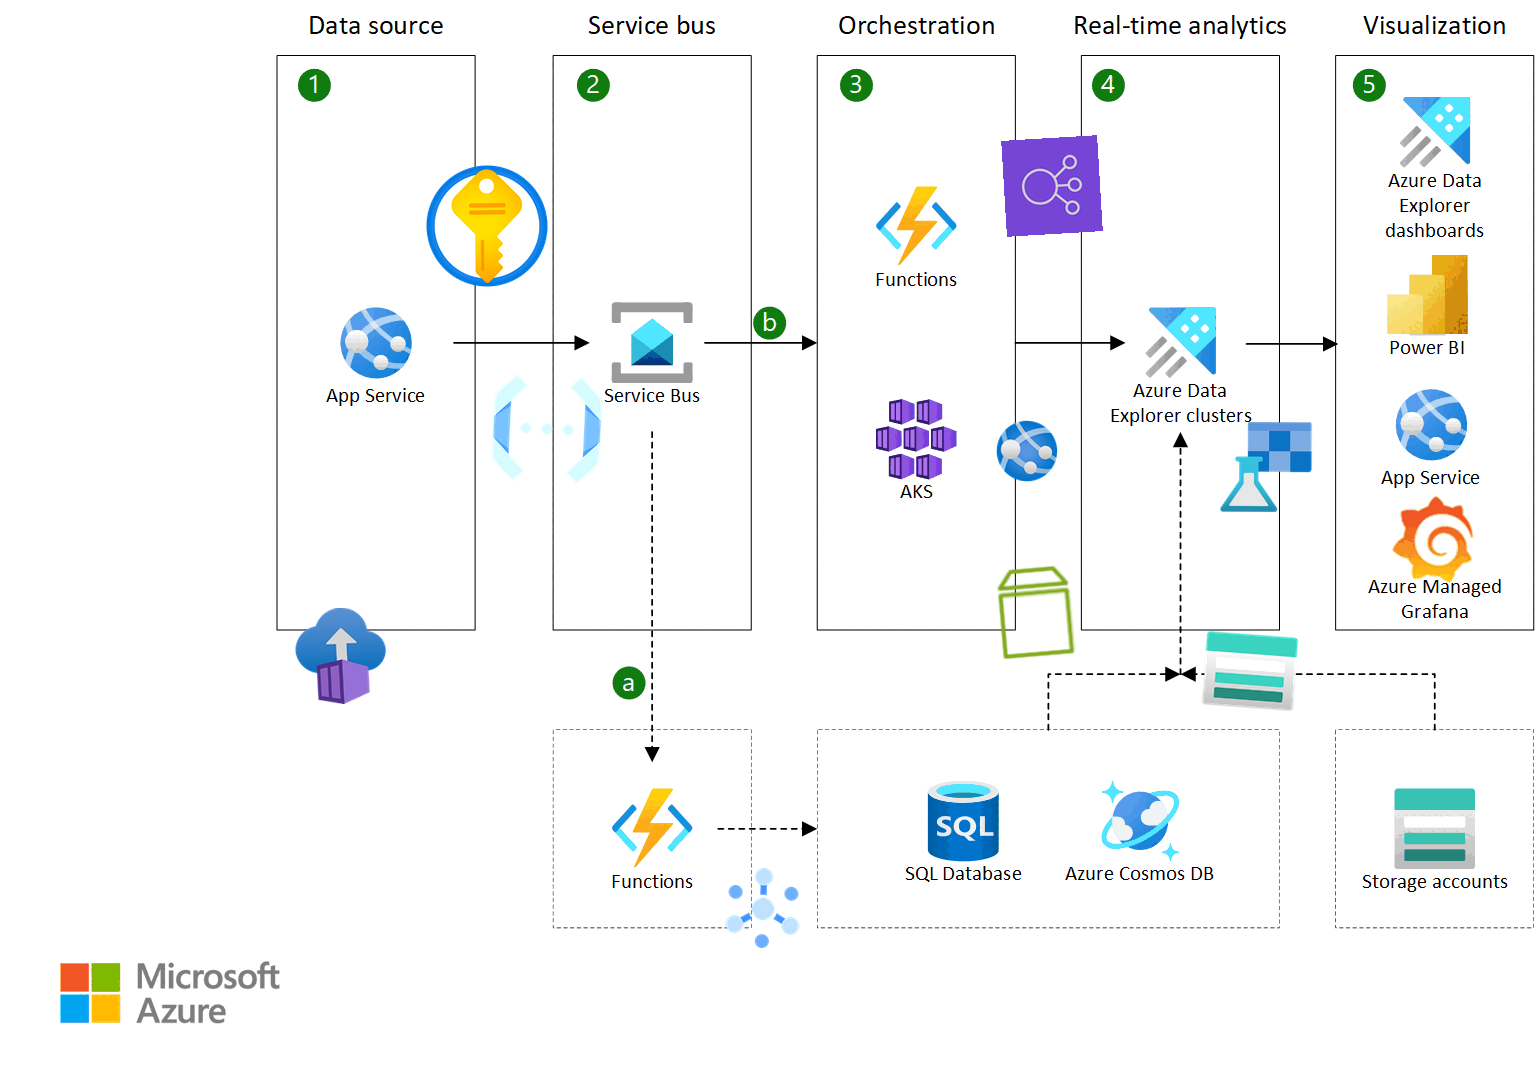aws_elastic_block_store_volume: (984, 560, 1089, 665)
aws_elastic_load_balancing: (1001, 135, 1103, 237)
azure_app_services: (992, 417, 1060, 485)
azure_container_instances: (289, 605, 393, 707)
azure_key_vaults: (422, 161, 552, 291)
azure_machine_learning_studio_workspaces: (1217, 418, 1315, 516)
azure_storage_accounts: (1198, 619, 1302, 723)
gcp_cloud_functions: (480, 362, 614, 496)
gcp_pubsub: (712, 858, 813, 958)
